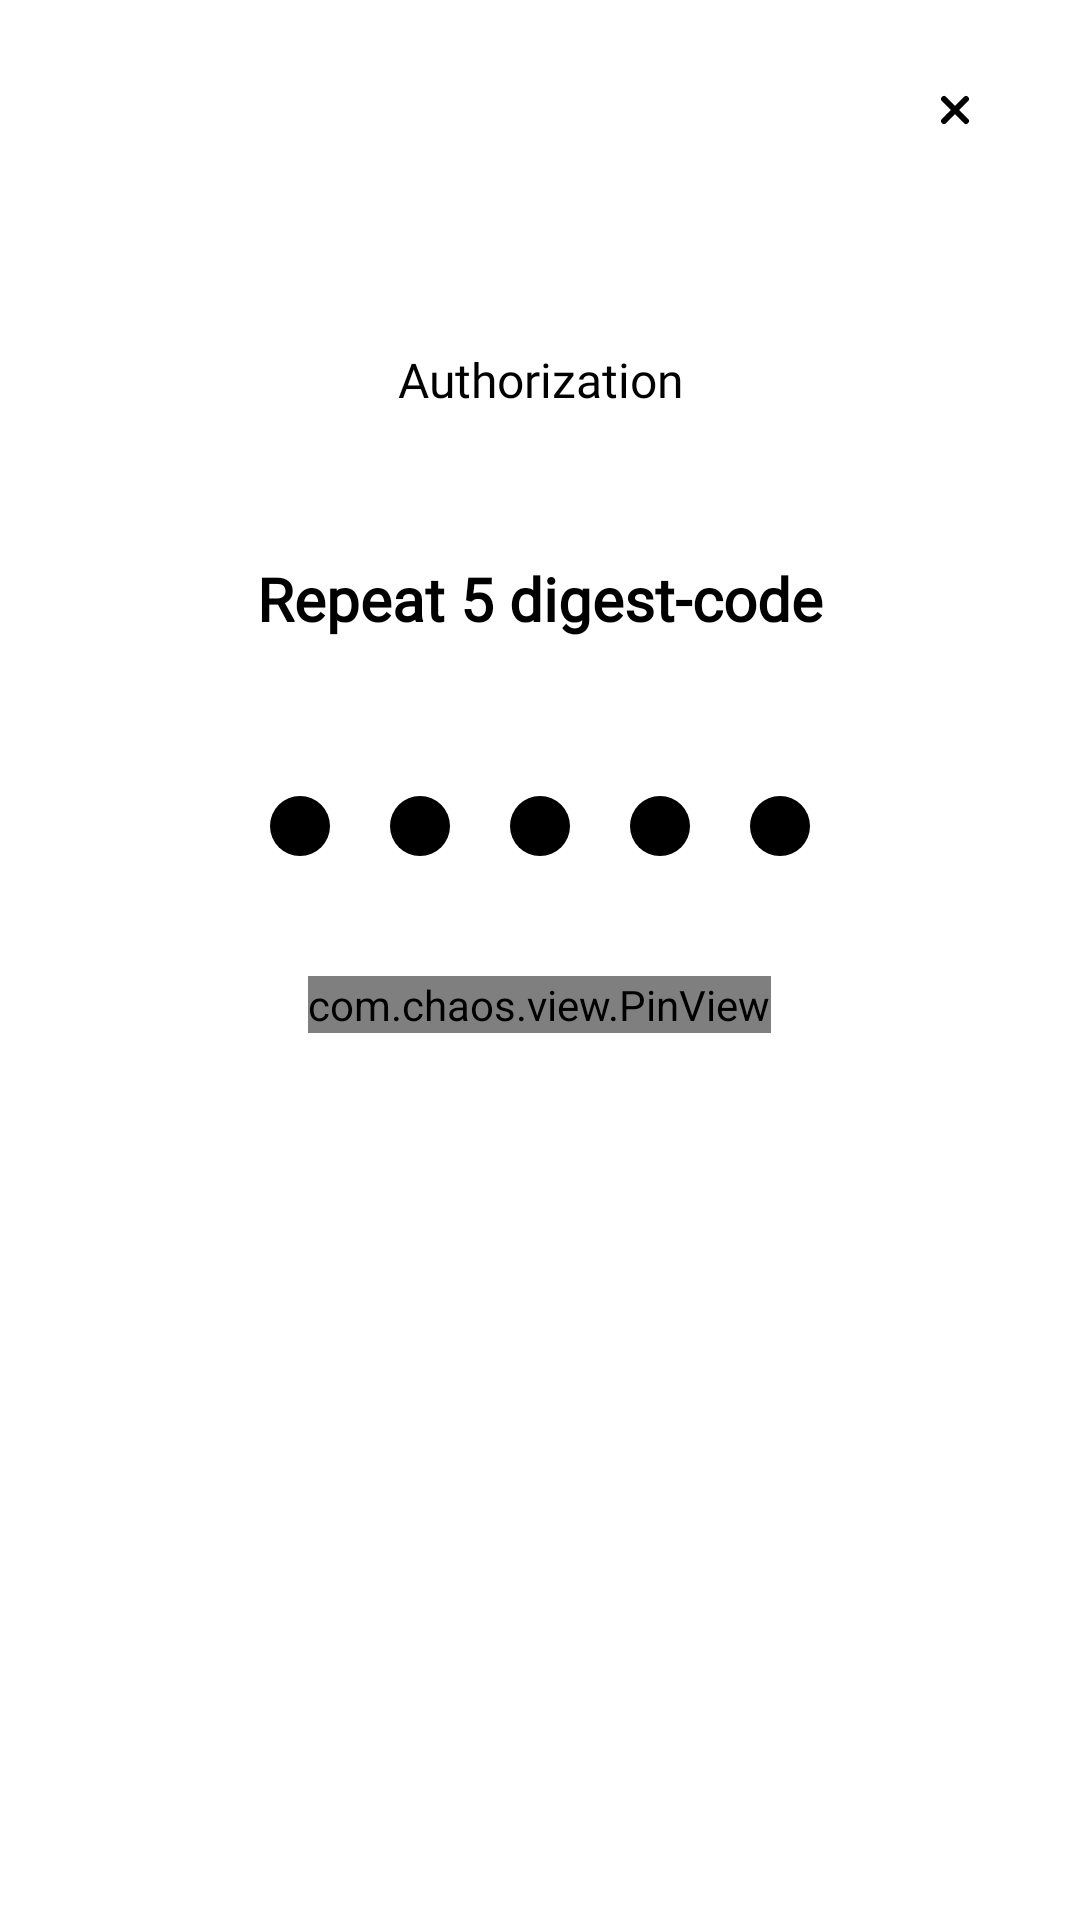

Named icons in this screenshot (1080*1920) and their centers, (x,y):
close auth: (955,110)
